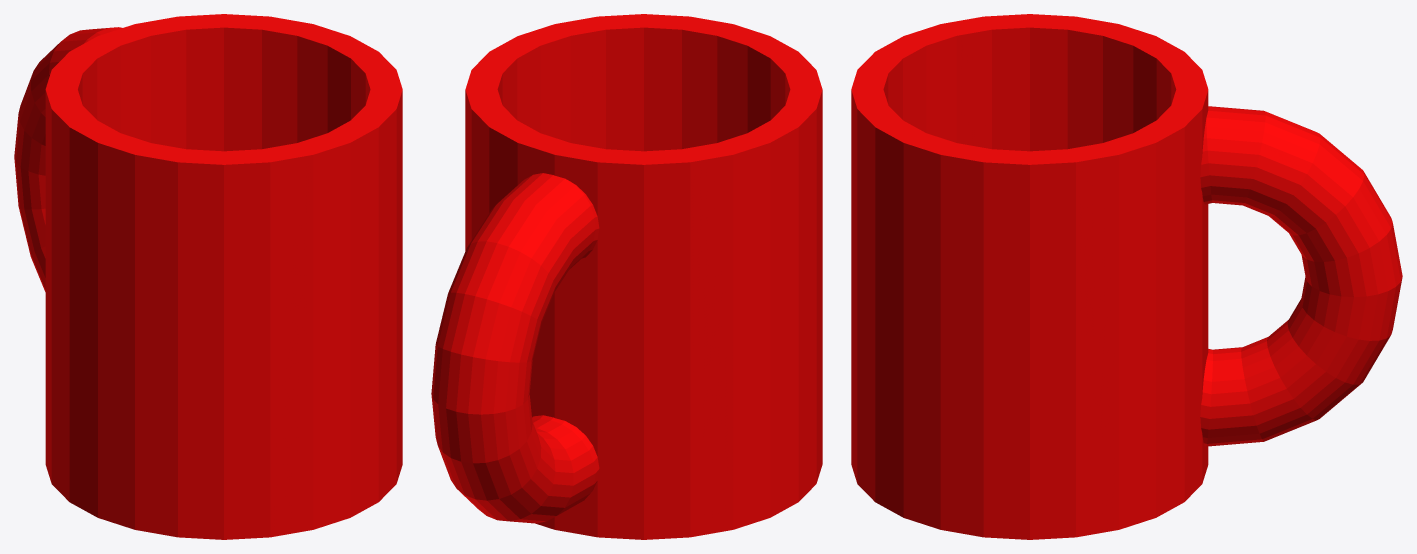
3 views of the same model, side by side, from view 1: azimuth 30°, elevation 25°; view 2: azimuth 150°, elevation 25°; view 3: azimuth 270°, elevation 25° (orthographic).
Size of the model in its own units: 0.4564 by 0.5289 by 0.7047.
